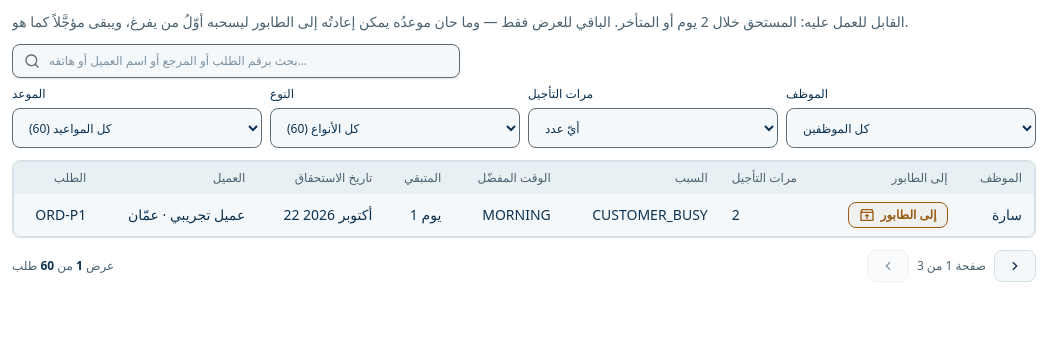
Test: «إلى الطابور» › — hands the order back, says so, and reloads the page the reader is ON — not the first
The width and height of the screenshot is (1053, 353).
Expected: the dropdown labelled "الموعد" is shown, [12,108,262,148]
What coordinates should you click on to do the following:
click the button named "الصفحة التالية"
I would click on:
 (1015, 266)
Its box is [994,250,1036,282].
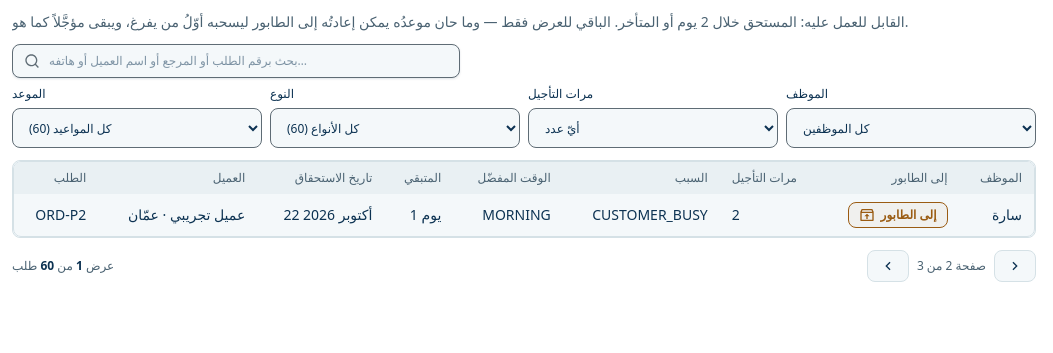
What coordinates should you click on to do the following:
click the button "إلى الطابور"
I would click on:
 (898, 215)
Its box is [848,202,948,228].
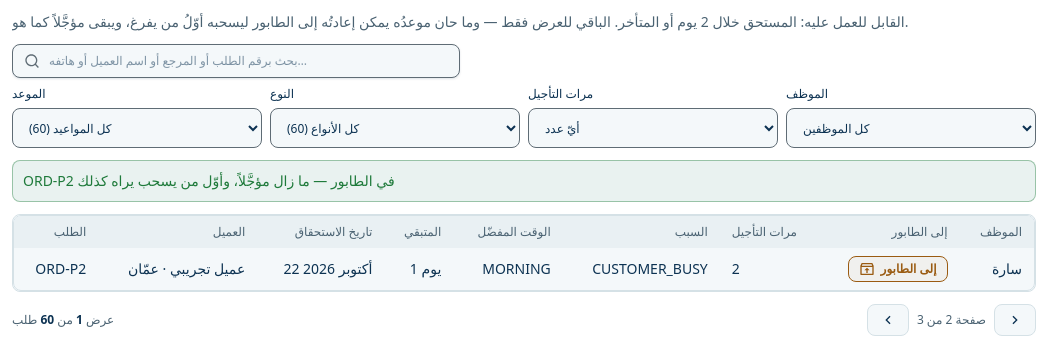
Expected: the text "ORD-P2 في الطابور — ما زال مؤجَّلاً، وأوّل من يسحب يراه كذلك" is shown, [12,160,1036,202]
